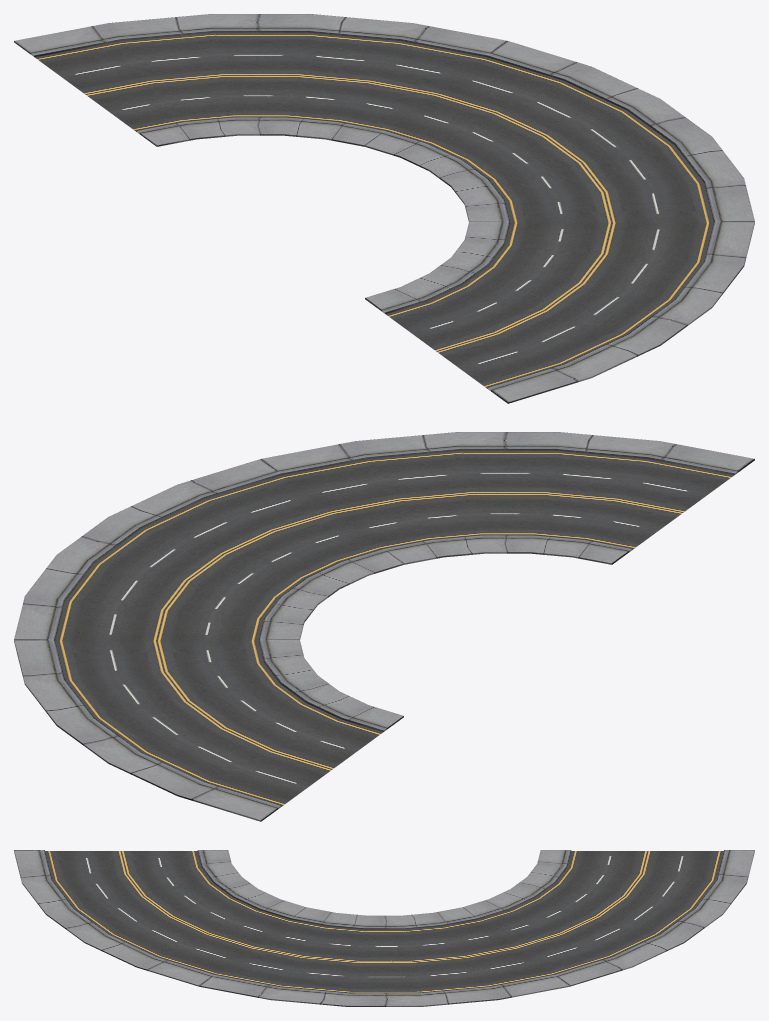
The model's file is road14.glb.
The picture shows the model from 3 angles, top to bottom: view 1: azimuth 30°, elevation 25°; view 2: azimuth 150°, elevation 25°; view 3: azimuth 270°, elevation 25°; orthographic projection. The views are drawn at different scales.
Parts seen in each view (by area): view 1: ro_14; view 2: ro_14; view 3: ro_14.
Part boxes in pixels (x1=…): ro_14: x1=14, y1=14, x2=754, y2=403; ro_14: x1=14, y1=432, x2=754, y2=821; ro_14: x1=14, y1=850, x2=754, y2=1006.
Size of the model in its own units: 52.14 by 0.1636 by 105.
1 material, 1 textured.
